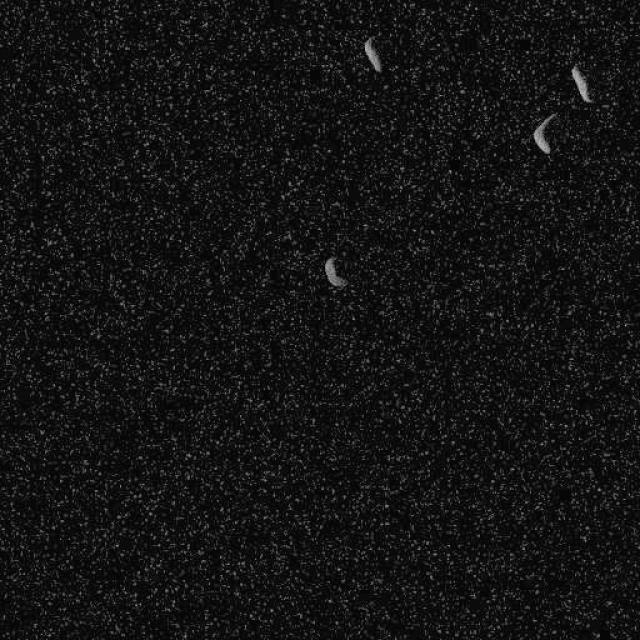D2: (531, 111, 559, 155), (570, 64, 594, 104), (322, 255, 348, 289), (362, 36, 382, 72)
